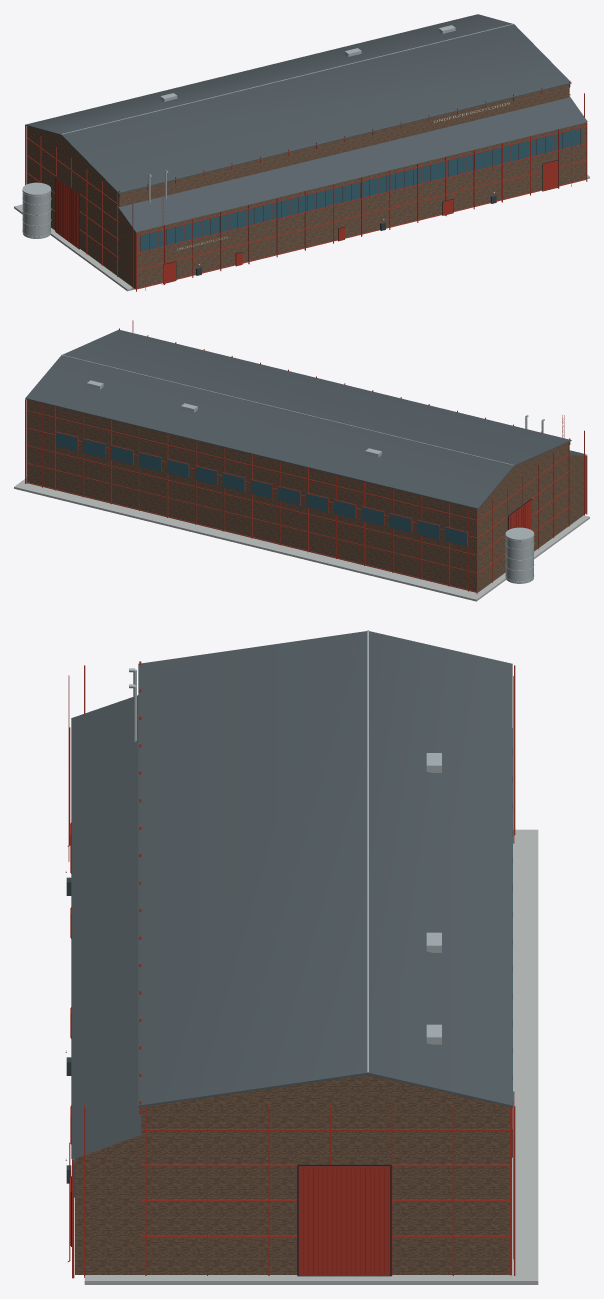
The model's file is rdm-loods.glb.
The picture shows the model from 3 angles, top to bottom: view 1: azimuth 30°, elevation 25°; view 2: azimuth 150°, elevation 25°; view 3: azimuth 270°, elevation 25°; orthographic projection. The views are drawn at different scales.
Visible parts, largest first — view 1: main_roof, lower_aisle_masonry, aisle_roof, main_hall_masonry, front_clerestory, exposed_red_frame, industrial_services, assembly_end_doors, service_doors, foundation, roof_ridge; view 2: main_roof, main_hall_masonry, exposed_red_frame, rear_windows, foundation, industrial_services, lower_aisle_masonry, roof_ridge, assembly_end_doors; view 3: main_roof, main_hall_masonry, aisle_roof, foundation, assembly_end_doors, lower_aisle_masonry, exposed_red_frame, drainage, roof_services, roof_ridge.
Part boxes in pixels (left/top/right/bottom): main_roof: left=25, top=14, right=571, bottom=193; lower_aisle_masonry: left=119, top=122, right=586, bottom=289; aisle_roof: left=118, top=96, right=587, bottom=232; main_hall_masonry: left=27, top=84, right=569, bottom=276; front_clerestory: left=140, top=128, right=582, bottom=251; exposed_red_frame: left=25, top=80, right=587, bottom=291; industrial_services: left=22, top=182, right=51, bottom=238; assembly_end_doors: left=55, top=176, right=79, bottom=249; service_doors: left=163, top=160, right=558, bottom=283; foundation: left=14, top=175, right=589, bottom=291; roof_ridge: left=61, top=23, right=513, bottom=134; main_roof: left=25, top=329, right=571, bottom=509; main_hall_masonry: left=27, top=399, right=568, bottom=592; exposed_red_frame: left=25, top=320, right=587, bottom=593; rear_windows: left=55, top=431, right=467, bottom=546; foundation: left=14, top=478, right=589, bottom=601; industrial_services: left=505, top=527, right=534, bottom=583; lower_aisle_masonry: left=569, top=455, right=586, bottom=524; roof_ridge: left=61, top=354, right=514, bottom=465; assembly_end_doors: left=508, top=498, right=531, bottom=529; main_roof: left=138, top=631, right=512, bottom=1107; main_hall_masonry: left=141, top=1075, right=509, bottom=1274; aisle_roof: left=71, top=695, right=143, bottom=1158; foundation: left=84, top=829, right=538, bottom=1284; assembly_end_doors: left=297, top=1164, right=391, bottom=1276; lower_aisle_masonry: left=75, top=1135, right=141, bottom=1274; exposed_red_frame: left=72, top=661, right=515, bottom=1278; drainage: left=67, top=676, right=514, bottom=1261; roof_services: left=426, top=753, right=441, bottom=1044; roof_ridge: left=367, top=630, right=368, bottom=1072.
Bounding box in the file's own units: 119 × 24.28 × 50.
12 materials, 3 textured.
